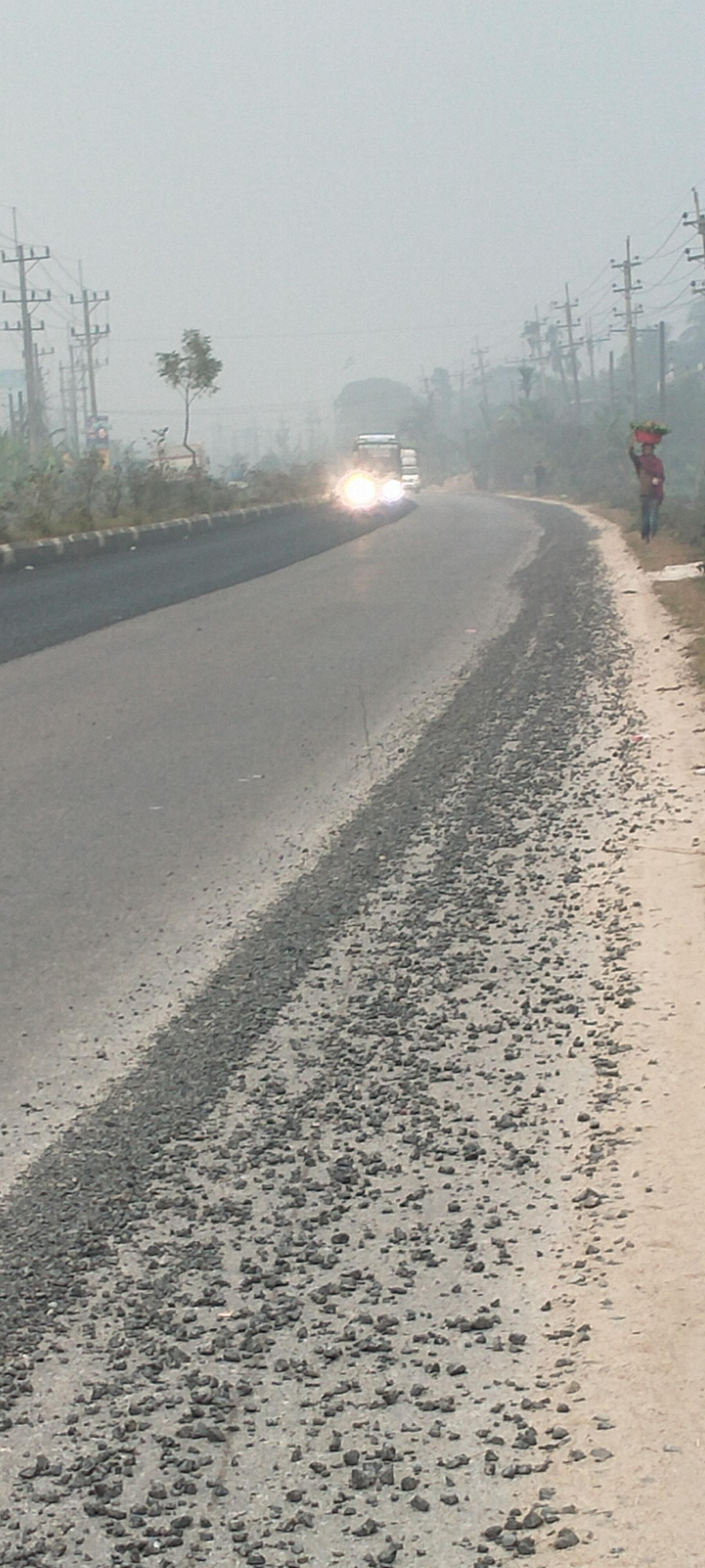Bus: (349, 428, 418, 532)
